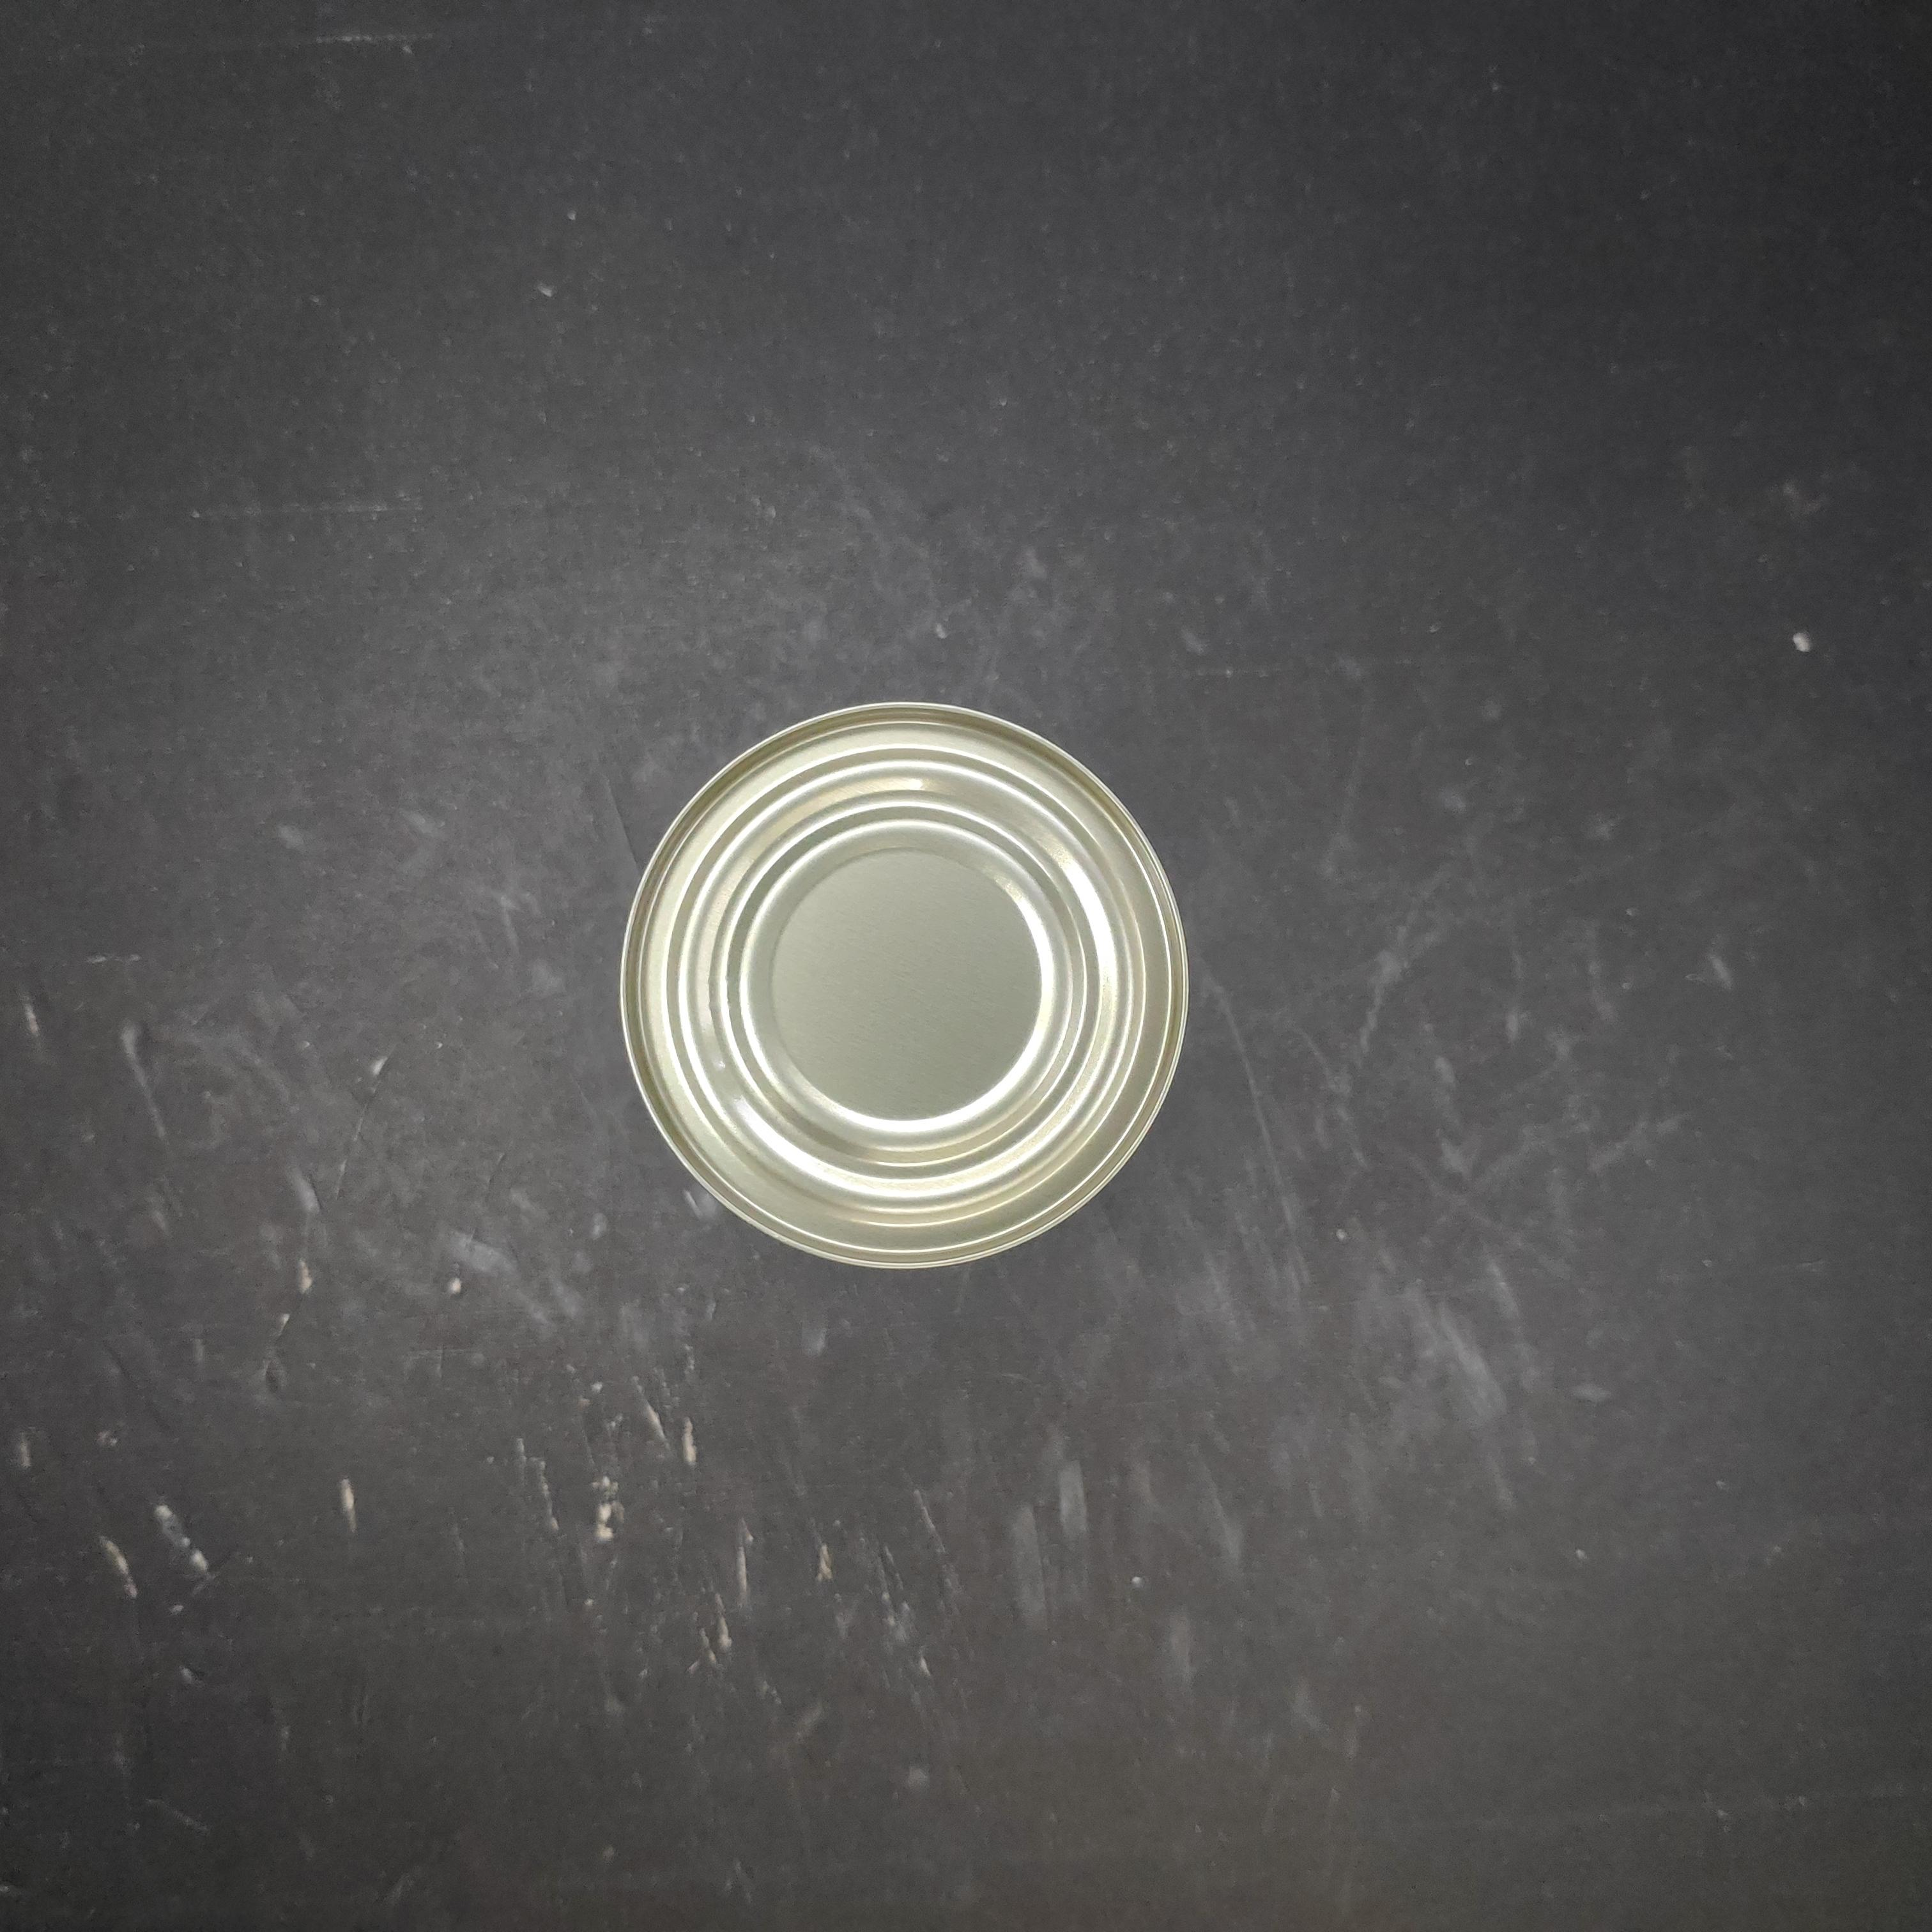No defect: (700, 739, 1271, 1315)
